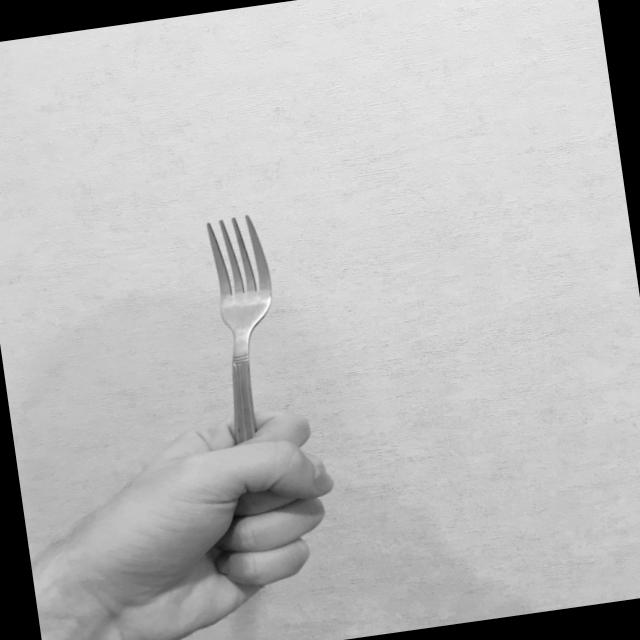fork: (200, 211, 301, 478)
